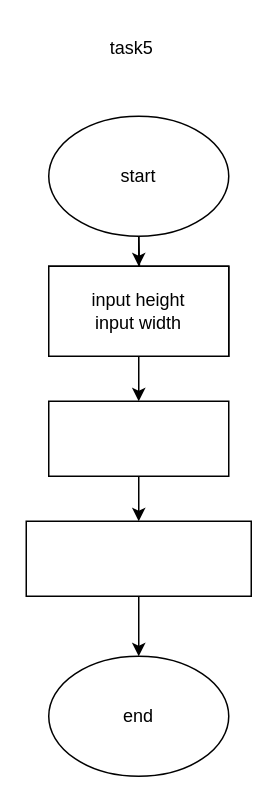
This 278x803 diagram has some shape labels left out. Here are the shapes that lost their labels. From the top down, the centre of each, then its label:
At pixel 138 438: "sahe = height * width".
At pixel 138 558: "sahe = 2*(height + width)".
